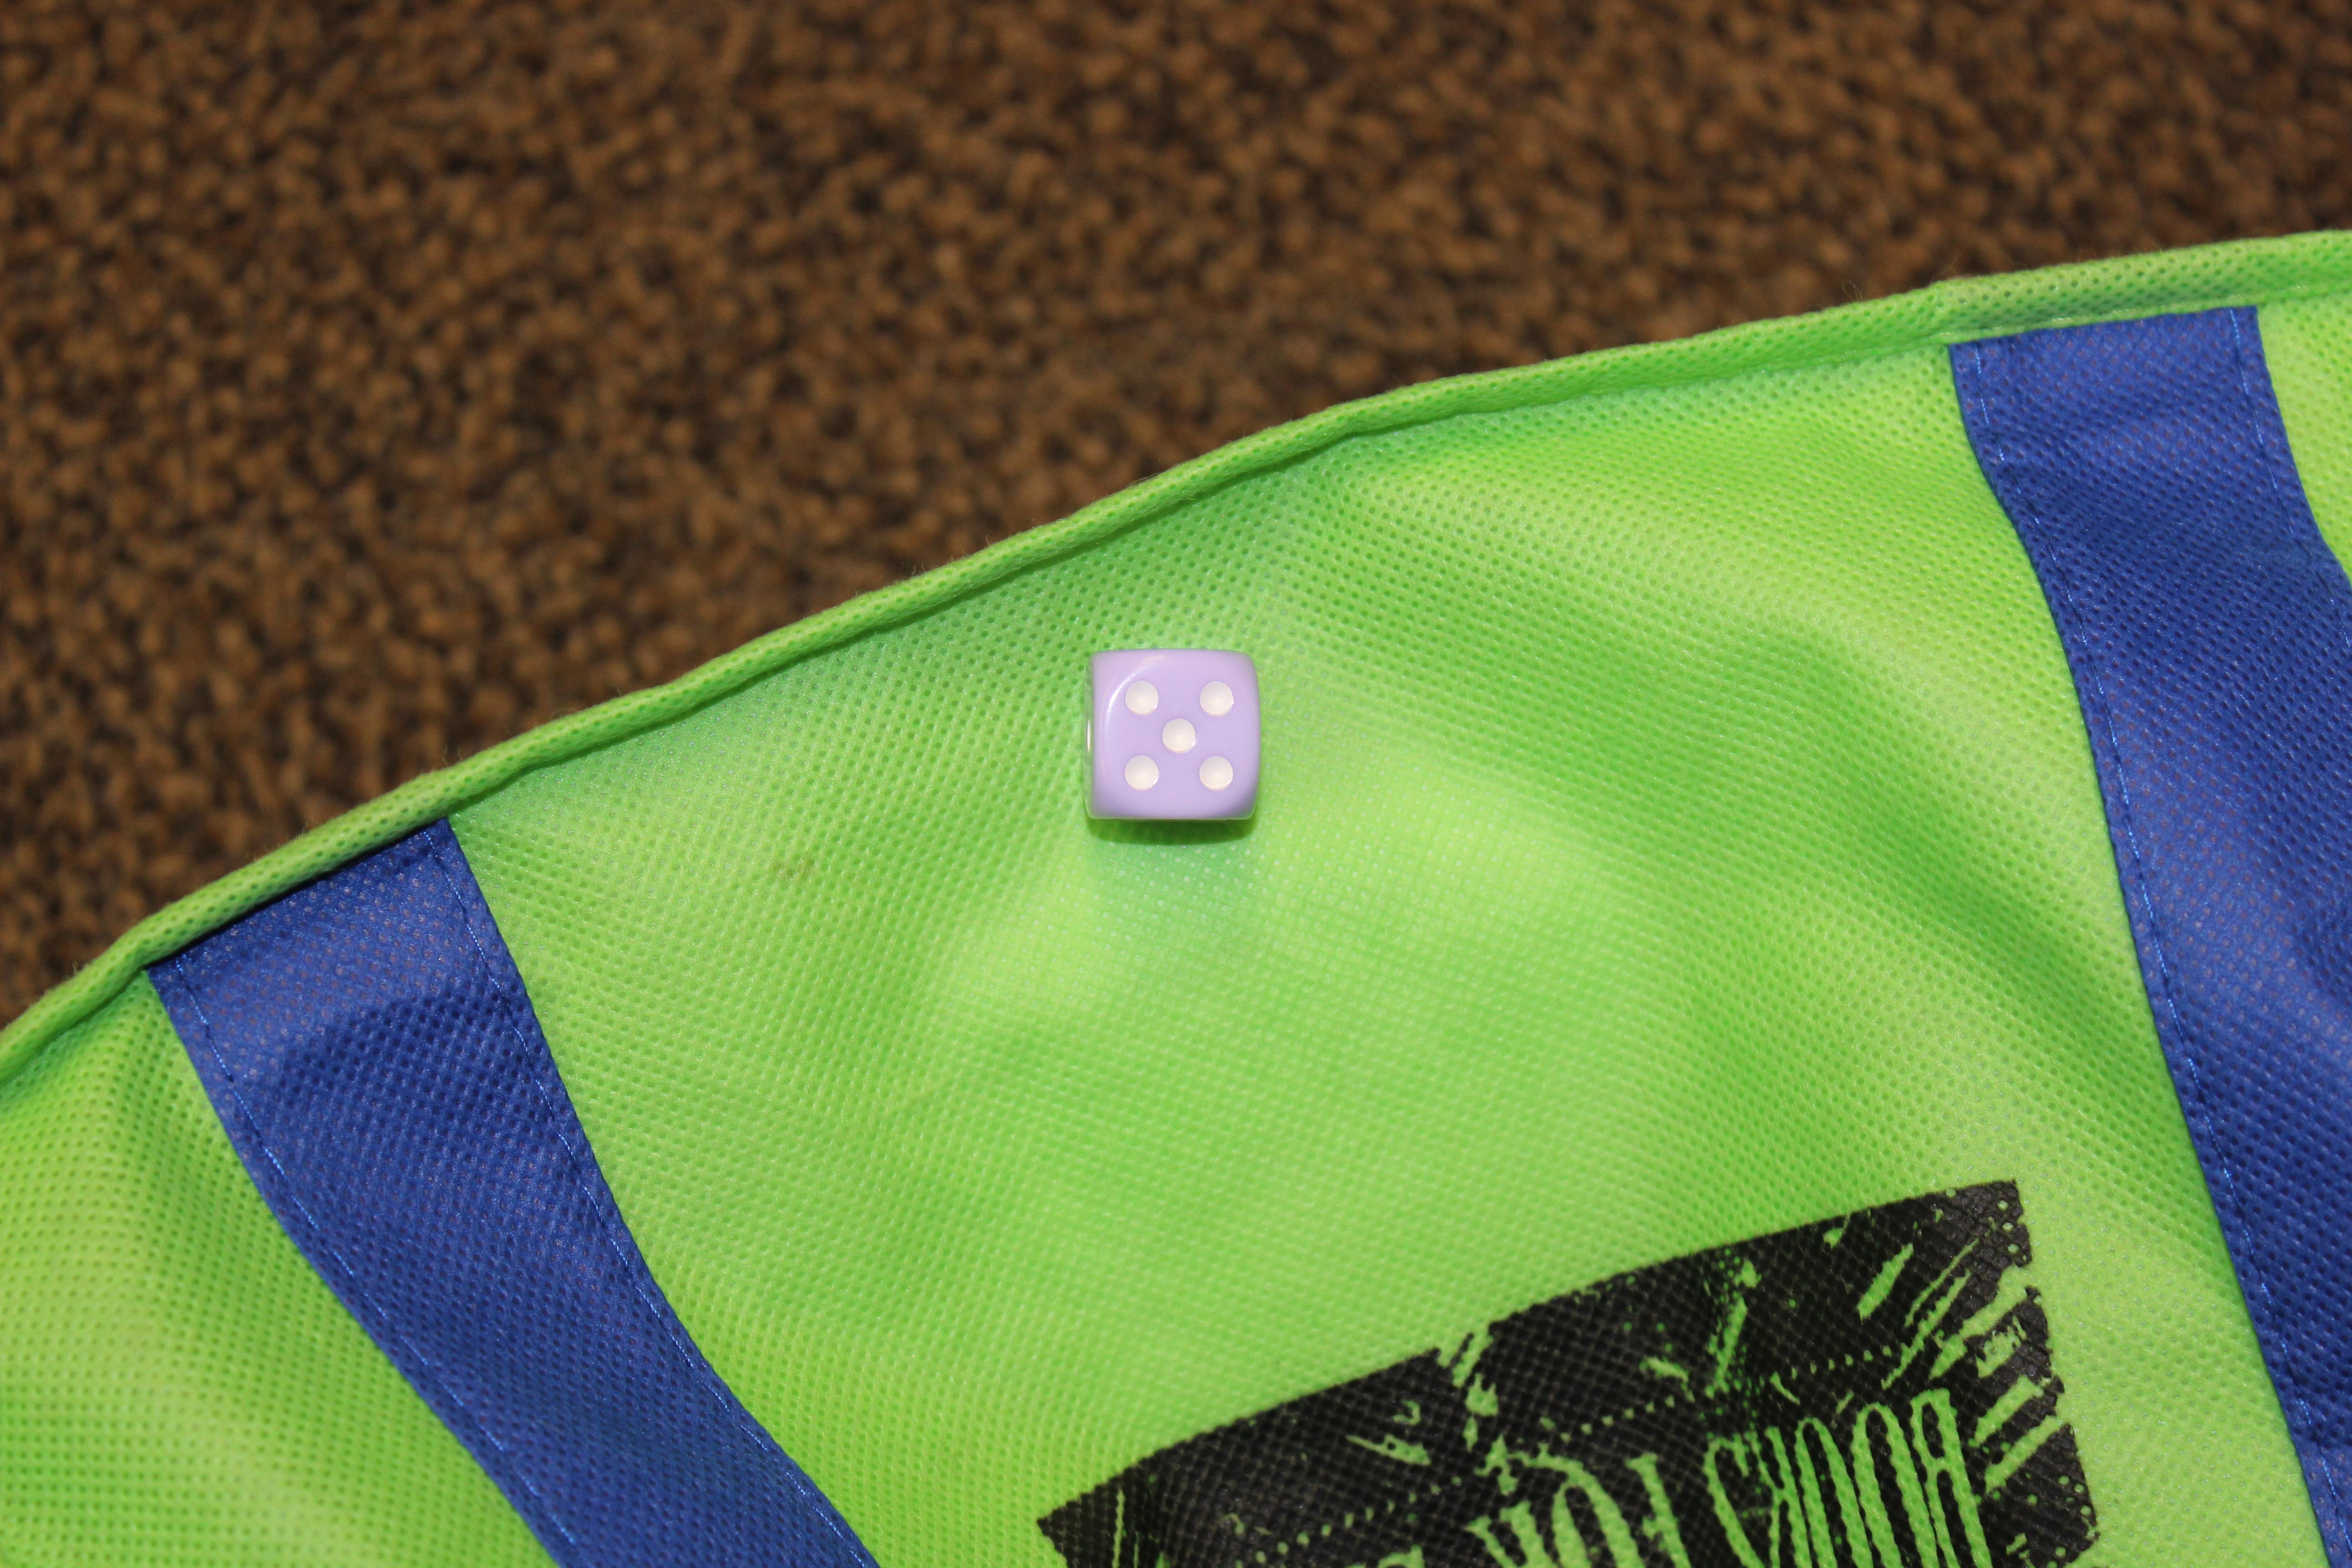lavenderDie: (1036, 607, 1307, 889)
